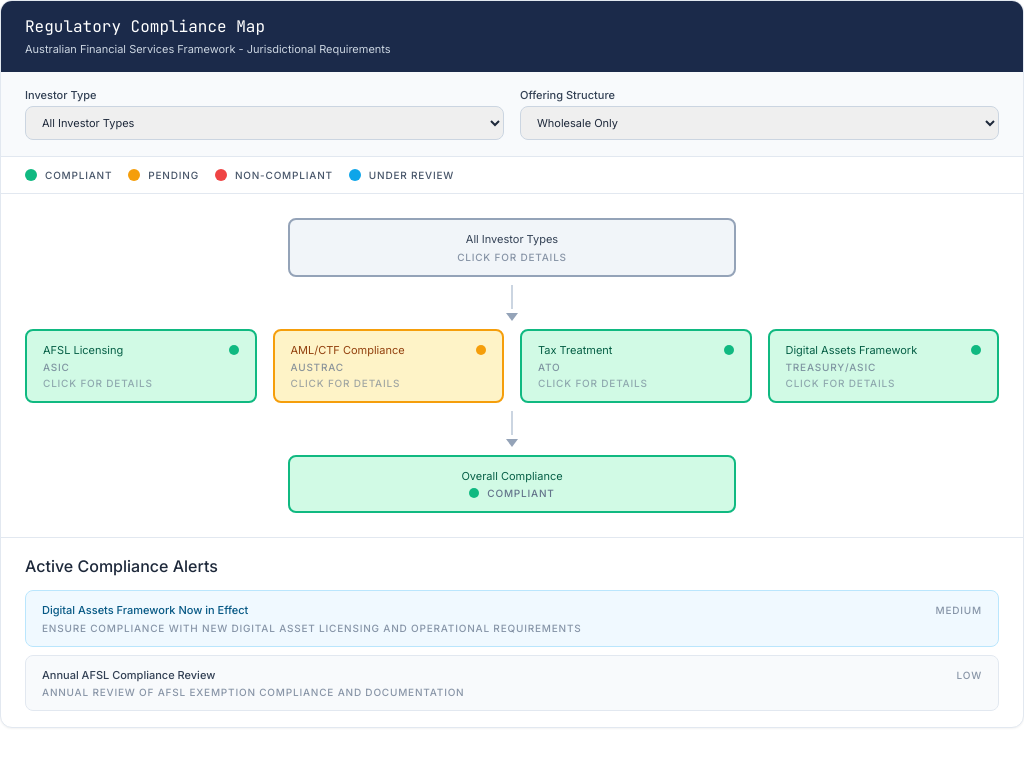
Scenario: RegulatoryMap Component › Tax treatment node shows rate information
Click the button with test id "node-tax-treatment" at (636, 366), box [520,329,752,403]
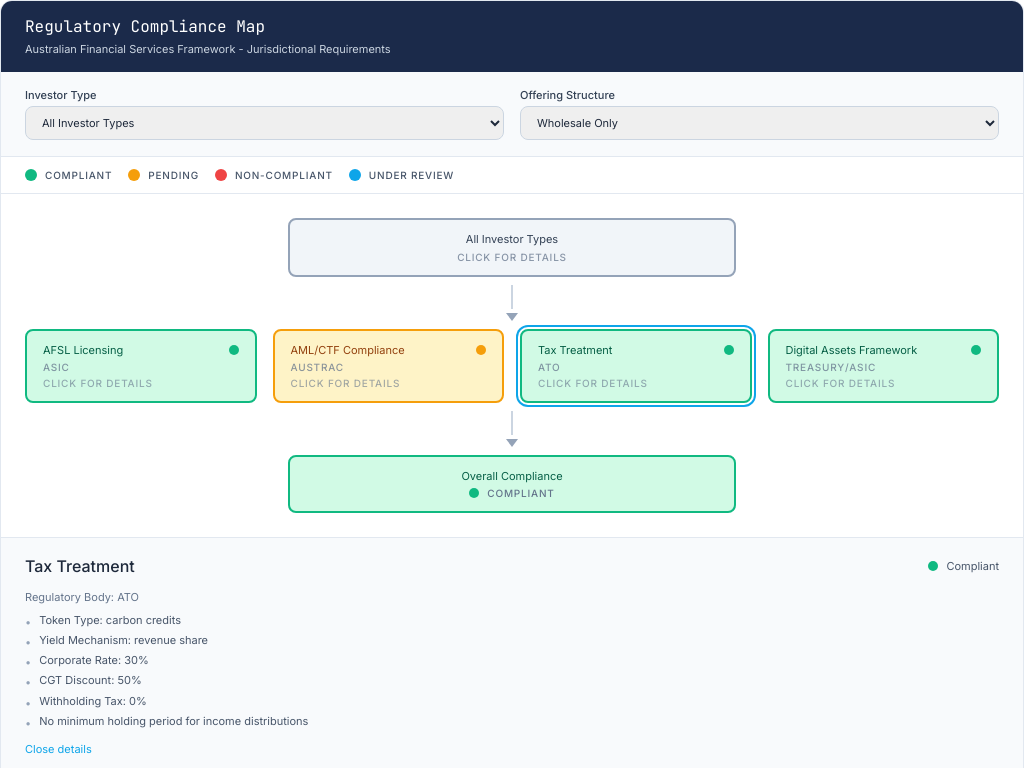
Check: the text "Regulatory Body: ATO" is shown, box [25,590,139,604]
Check: the text "Corporate Rate: 30%" is shown, box [39,653,149,668]
